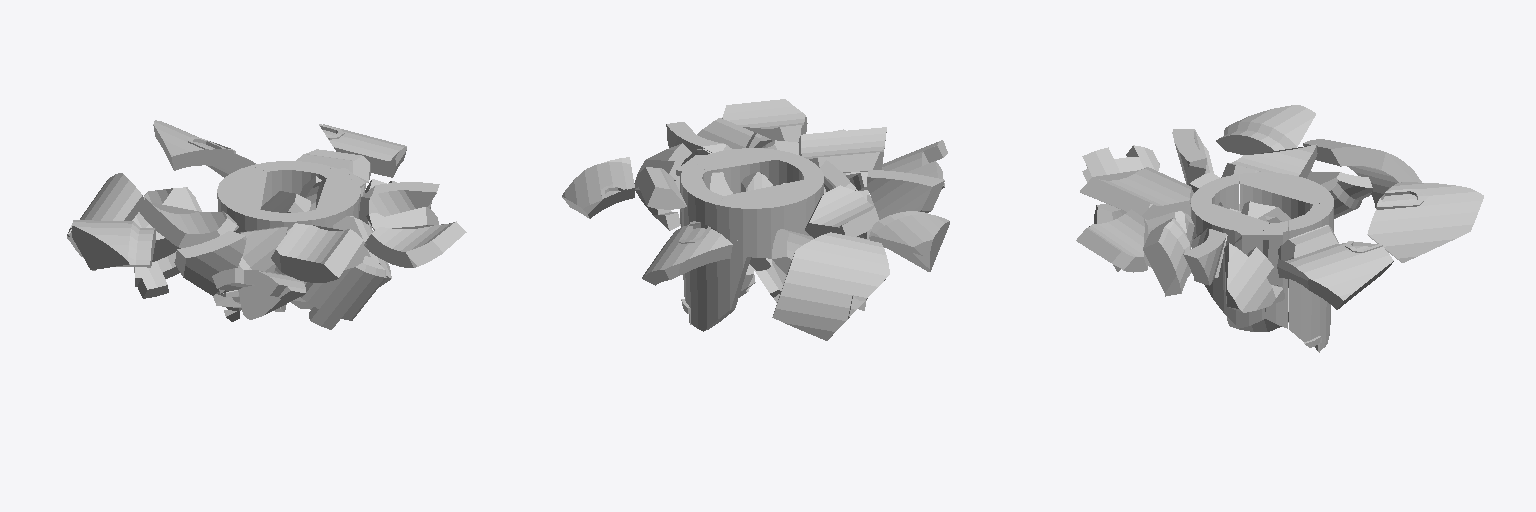
Rendered from destruction_tower_000067.obj.
3 views of the same model, side by side, from view 1: azimuth 30°, elevation 25°; view 2: azimuth 150°, elevation 25°; view 3: azimuth 270°, elevation 25° (orthographic).
Visible parts, largest first — view 1: tower.001_cell.024_Mesh.024, tower.001_cell.005_Mesh.005, tower.001_cell.011_Mesh.011, tower.001_cell.021_Mesh.021, tower.001_cell.006_Mesh.006, tower.001_cell.009_Mesh.009, tower.001_cell.007_Mesh.007, tower.001_cell.025_Mesh.025, tower.001_cell.002_Mesh.002, tower.001_cell.028_Mesh.028, tower.001_cell.010_Mesh.010, tower.001_cell.012_Mesh.012 (+9 smaller); view 2: tower.001_cell.003_Mesh.003, tower.001_cell.017_Mesh.017, tower.001_cell.015_Mesh.015, tower.001_cell.024_Mesh.024, tower.001_cell.025_Mesh.025, tower.001_cell.005_Mesh.005, tower.001_cell.028_Mesh.028, tower.001_cell.012_Mesh.012, tower.001_cell.002_Mesh.002, tower.001_cell.009_Mesh.009, tower.001_cell.021_Mesh.021, tower.001_cell.016_Mesh.016 (+7 smaller); view 3: tower.001_cell.025_Mesh.025, tower.001_cell.012_Mesh.012, tower.001_cell.024_Mesh.024, tower.001_cell.005_Mesh.005, tower.001_cell.017_Mesh.017, tower.001_cell.030_Mesh.030, tower.001_cell.003_Mesh.003, tower.001_cell.015_Mesh.015, tower.001_cell.021_Mesh.021, tower.001_cell_Mesh, tower.001_cell.028_Mesh.028, tower.001_cell.009_Mesh.009 (+10 smaller).
Boxes of the visible parts, <box> form: tower.001_cell.024_Mesh.024: <box>271,223,363,282</box>; tower.001_cell.005_Mesh.005: <box>72,220,155,270</box>; tower.001_cell.011_Mesh.011: <box>301,256,386,329</box>; tower.001_cell.021_Mesh.021: <box>364,221,466,267</box>; tower.001_cell.006_Mesh.006: <box>212,268,305,319</box>; tower.001_cell.009_Mesh.009: <box>139,198,238,247</box>; tower.001_cell.007_Mesh.007: <box>132,187,201,298</box>; tower.001_cell.025_Mesh.025: <box>153,120,255,177</box>; tower.001_cell.002_Mesh.002: <box>174,231,246,295</box>; tower.001_cell.028_Mesh.028: <box>286,178,365,228</box>; tower.001_cell.010_Mesh.010: <box>359,182,439,225</box>; tower.001_cell.012_Mesh.012: <box>319,124,406,177</box>; tower.001_cell.003_Mesh.003: <box>772,232,889,340</box>; tower.001_cell.017_Mesh.017: <box>681,174,750,331</box>; tower.001_cell.015_Mesh.015: <box>719,180,822,258</box>; tower.001_cell.024_Mesh.024: <box>799,127,886,175</box>; tower.001_cell.025_Mesh.025: <box>642,221,732,285</box>; tower.001_cell.005_Mesh.005: <box>869,211,949,271</box>; tower.001_cell.028_Mesh.028: <box>696,148,812,193</box>; tower.001_cell.012_Mesh.012: <box>562,157,634,218</box>; tower.001_cell.002_Mesh.002: <box>867,170,944,219</box>; tower.001_cell.009_Mesh.009: <box>805,185,878,238</box>; tower.001_cell.021_Mesh.021: <box>722,99,807,142</box>; tower.001_cell.016_Mesh.016: <box>634,167,686,209</box>; tower.001_cell.025_Mesh.025: <box>1367,182,1483,262</box>; tower.001_cell.012_Mesh.012: <box>1277,241,1393,309</box>; tower.001_cell.024_Mesh.024: <box>1080,167,1193,219</box>; tower.001_cell.005_Mesh.005: <box>1216,105,1315,154</box>; tower.001_cell.017_Mesh.017: <box>1289,202,1333,352</box>; tower.001_cell.030_Mesh.030: <box>1224,243,1284,312</box>; tower.001_cell.003_Mesh.003: <box>1303,139,1421,207</box>; tower.001_cell.015_Mesh.015: <box>1240,172,1333,218</box>; tower.001_cell.021_Mesh.021: <box>1076,209,1148,272</box>; tower.001_cell_Mesh: <box>1143,218,1189,296</box>; tower.001_cell.028_Mesh.028: <box>1190,188,1269,246</box>; tower.001_cell.009_Mesh.009: <box>1221,144,1317,183</box>.
Size of the model in its own units: 120 by 44.64 by 121.